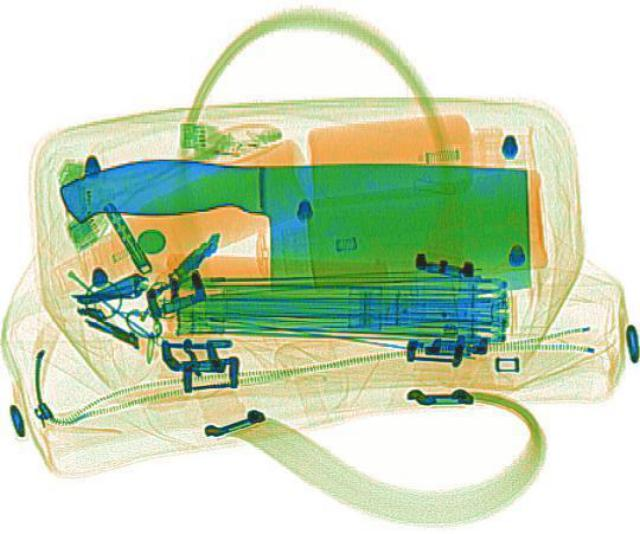Knife: (52, 153, 536, 295)
